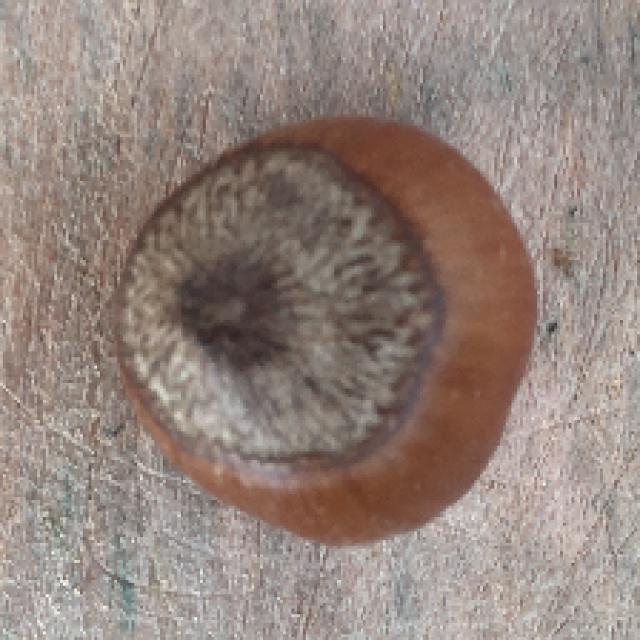DamagedHazelnut: (96, 119, 547, 555)
